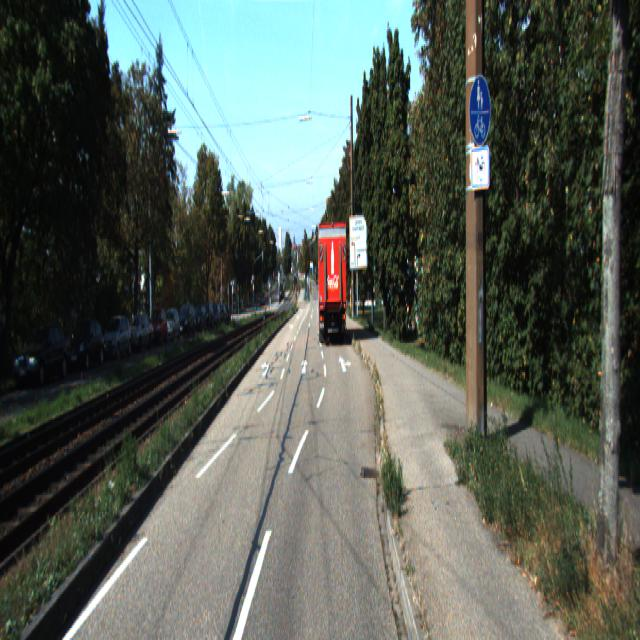Car: (14, 320, 73, 390), (316, 222, 348, 350), (68, 318, 106, 375), (101, 316, 133, 362), (123, 315, 153, 356), (148, 309, 169, 348), (162, 310, 180, 342)
